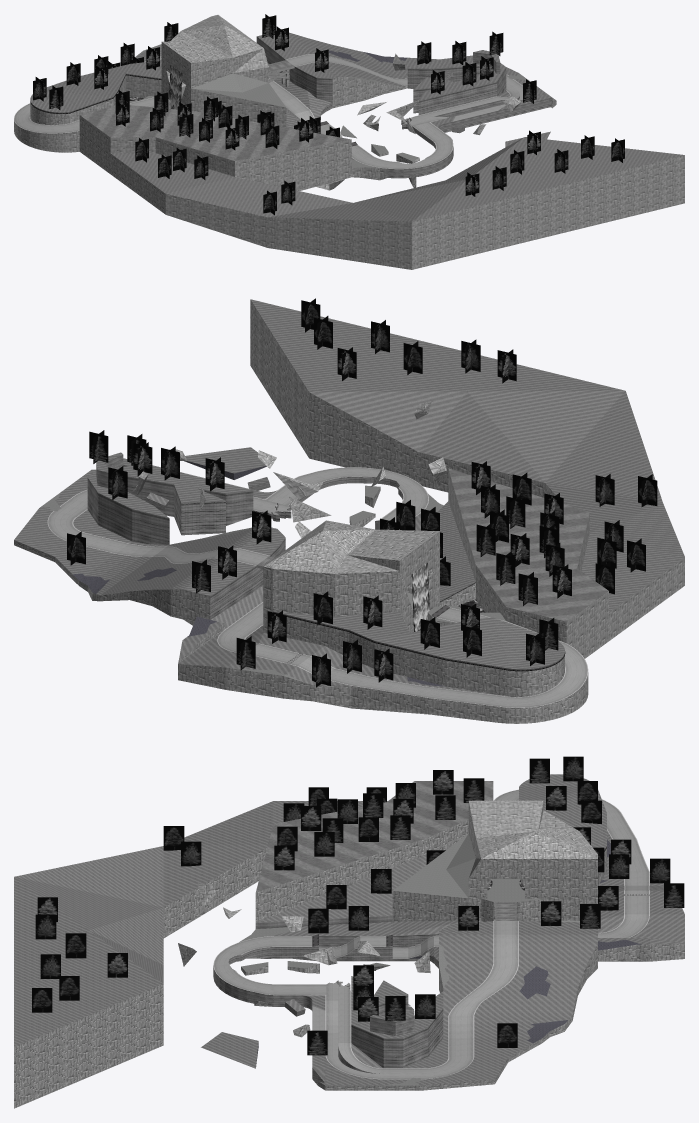
3 renders of one model, top to bottom at view 1: azimuth 30°, elevation 25°; view 2: azimuth 150°, elevation 25°; view 3: azimuth 270°, elevation 25°, orthographic. The views are drawn at different scales.
Visible parts, largest first — view 1: Sketchup_Sketchup_mdit_rock, Sketchup_Sketchup_mdit_grass, Sketchup_Sketchup_mdit_laztrees, Sketchup_Sketchup_mdit_cliff, Sketchup_Sketchup_mdit_road, Sketchup_Sketchup_mdit_stone2, Sketchup_Sketchup_mdit_taki; view 2: Sketchup_Sketchup_mdit_grass, Sketchup_Sketchup_mdit_rock, Sketchup_Sketchup_mdit_laztrees, Sketchup_Sketchup_mdit_road, Sketchup_Sketchup_mdit_cliff, Sketchup_Sketchup_mdit_stone2, Sketchup_Sketchup_mdit_stone, Sketchup_Sketchup_mdit_taki, Sketchup_Sketchup_mdit_reef; view 3: Sketchup_Sketchup_mdit_grass, Sketchup_Sketchup_mdit_rock, Sketchup_Sketchup_mdit_laztrees, Sketchup_Sketchup_mdit_road, Sketchup_Sketchup_mdit_cliff, Sketchup_Sketchup_mdit_stone2, Sketchup_Sketchup_mdit_stone.
Boxes of the visible parts, <box> form: Sketchup_Sketchup_mdit_rock: <box>14,15,684,269</box>; Sketchup_Sketchup_mdit_grass: <box>30,32,684,221</box>; Sketchup_Sketchup_mdit_laztrees: <box>33,14,624,215</box>; Sketchup_Sketchup_mdit_cliff: <box>256,36,552,178</box>; Sketchup_Sketchup_mdit_road: <box>14,54,522,169</box>; Sketchup_Sketchup_mdit_stone2: <box>114,44,529,167</box>; Sketchup_Sketchup_mdit_taki: <box>169,65,182,109</box>; Sketchup_Sketchup_mdit_grass: <box>14,299,684,696</box>; Sketchup_Sketchup_mdit_rock: <box>14,300,684,723</box>; Sketchup_Sketchup_mdit_laztrees: <box>67,298,657,687</box>; Sketchup_Sketchup_mdit_road: <box>47,467,588,707</box>; Sketchup_Sketchup_mdit_cliff: <box>87,455,403,619</box>; Sketchup_Sketchup_mdit_stone2: <box>40,485,505,682</box>; Sketchup_Sketchup_mdit_stone: <box>73,461,445,686</box>; Sketchup_Sketchup_mdit_taki: <box>411,563,429,631</box>; Sketchup_Sketchup_mdit_reef: <box>273,582,565,671</box>; Sketchup_Sketchup_mdit_grass: <box>14,774,684,1085</box>; Sketchup_Sketchup_mdit_rock: <box>14,800,684,1108</box>; Sketchup_Sketchup_mdit_laztrees: <box>32,756,684,1055</box>; Sketchup_Sketchup_mdit_road: <box>213,789,649,1079</box>; Sketchup_Sketchup_mdit_cliff: <box>213,915,443,1082</box>; Sketchup_Sketchup_mdit_stone2: <box>239,833,683,1085</box>; Sketchup_Sketchup_mdit_stone: <box>256,839,641,1066</box>.
Size of the model in its own units: 97810 by 18976 by 98533.
14 materials, 14 textured.
